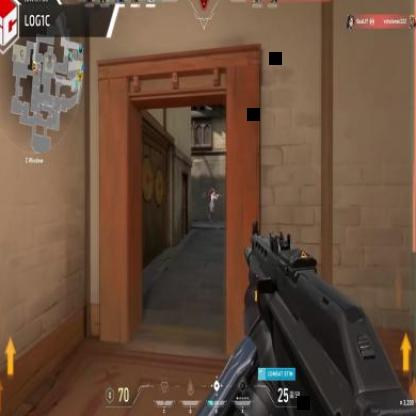enemy: (209, 187, 218, 222)
enemy_head: (212, 190, 216, 196)
